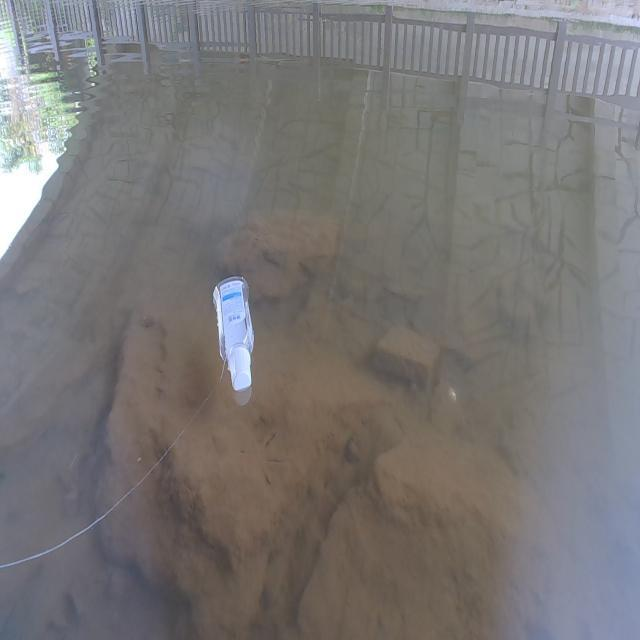bottle: (191, 239, 271, 418)
